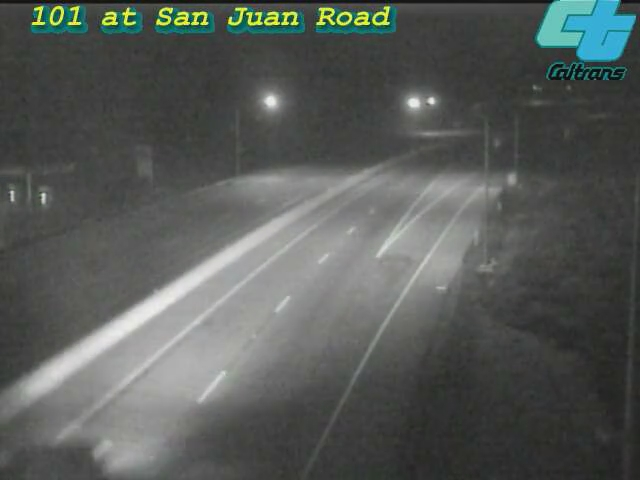vehicle: (2, 410, 112, 480)
